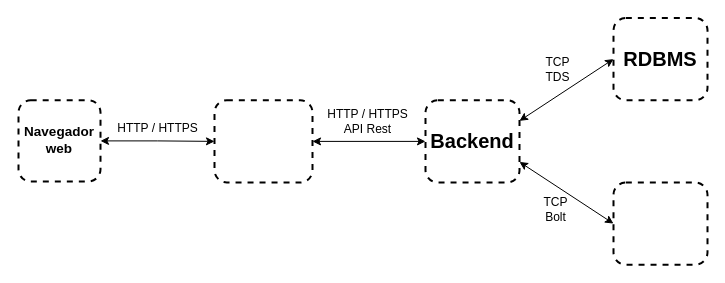
Image size: 725x283. Some labels were removed from this diagram. Here are the shapes that lost their labels. From the top down, the centre of each, then its label:
At point (263, 141): "Frontend".
At point (660, 223): "Graph DBMS".
